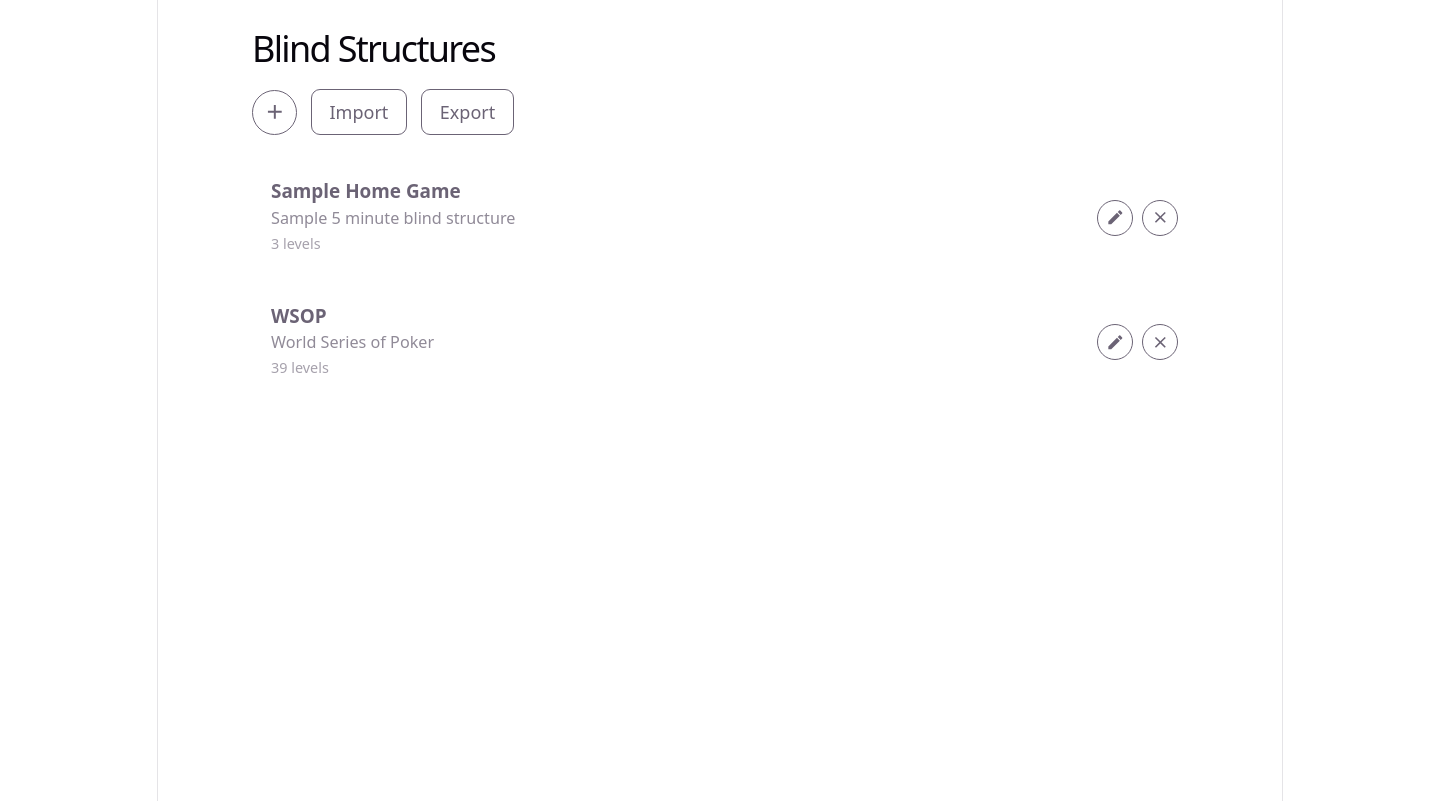
SettingsPage › creates a new blind structure with a level
Step 1. Click the button named "New Blind Structure" → (274, 112), box [252,90,297,135]
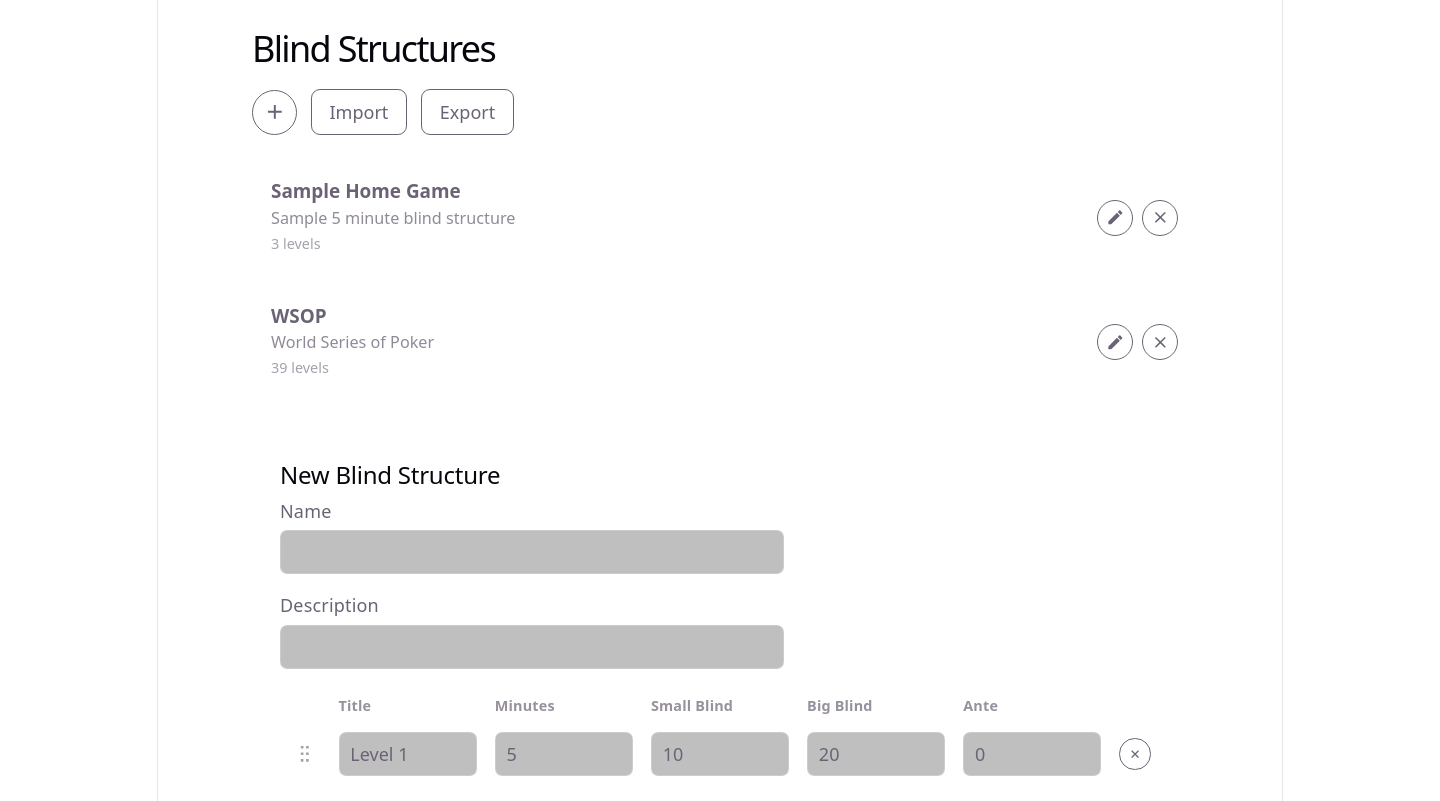
Step 2. Type "Turbo" into the field labelled "Name" → (532, 552), box [280,530,784,574]
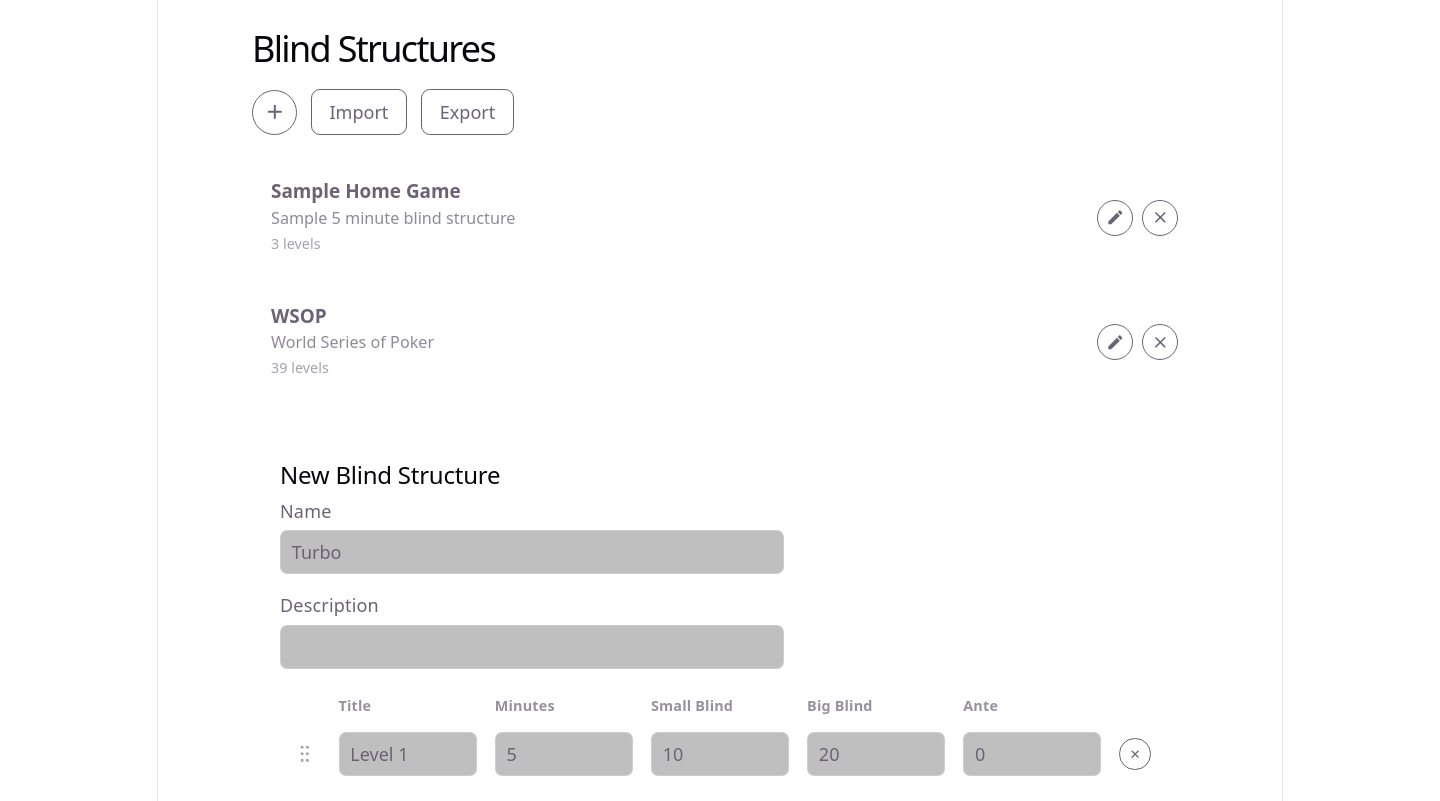
Step 3. Type "Fast blinds" into the field labelled "Description" → (532, 647), box [280,625,784,669]
(page scrolled)
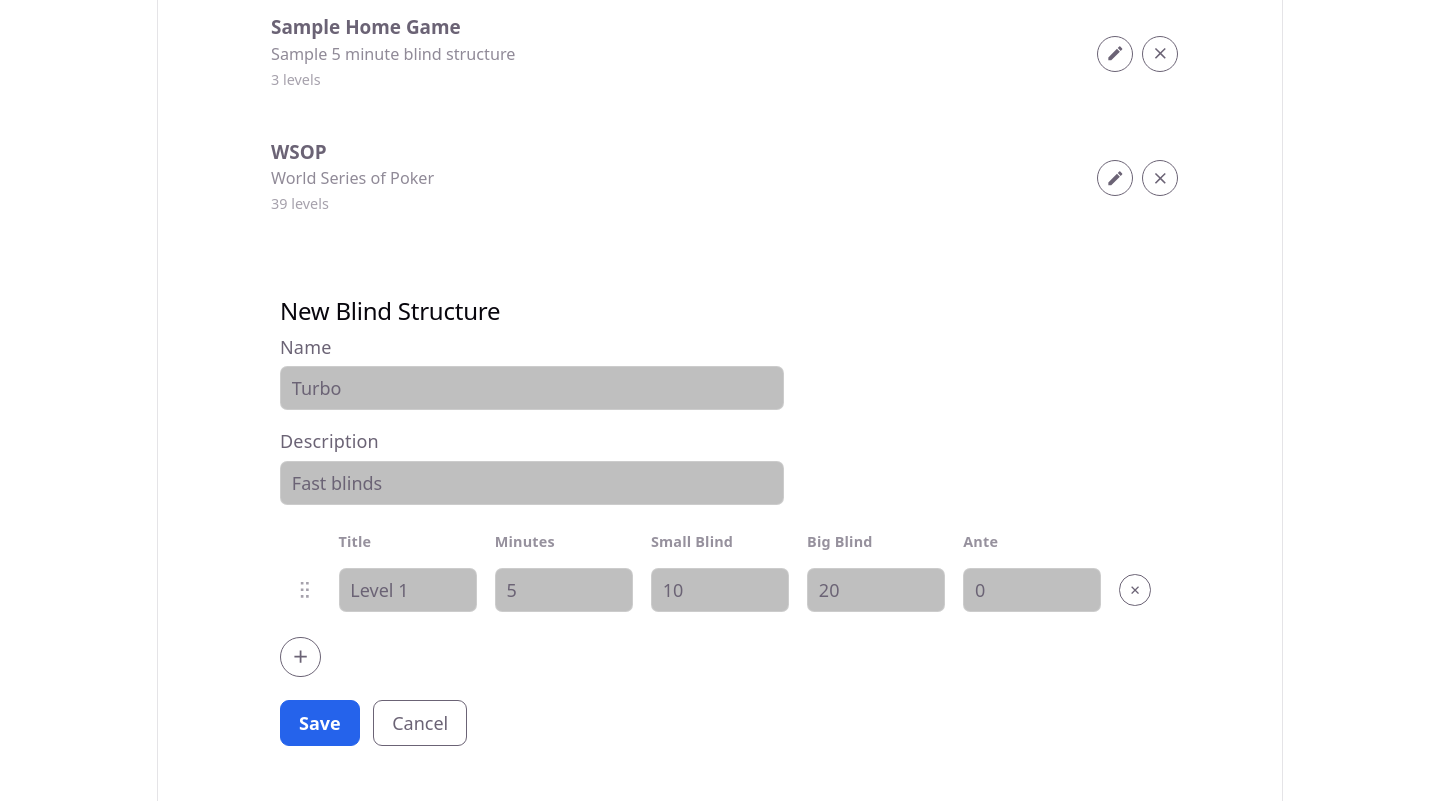
Step 4. Click the button "Save" → (320, 723), box [280,700,360,746]
(page scrolled)
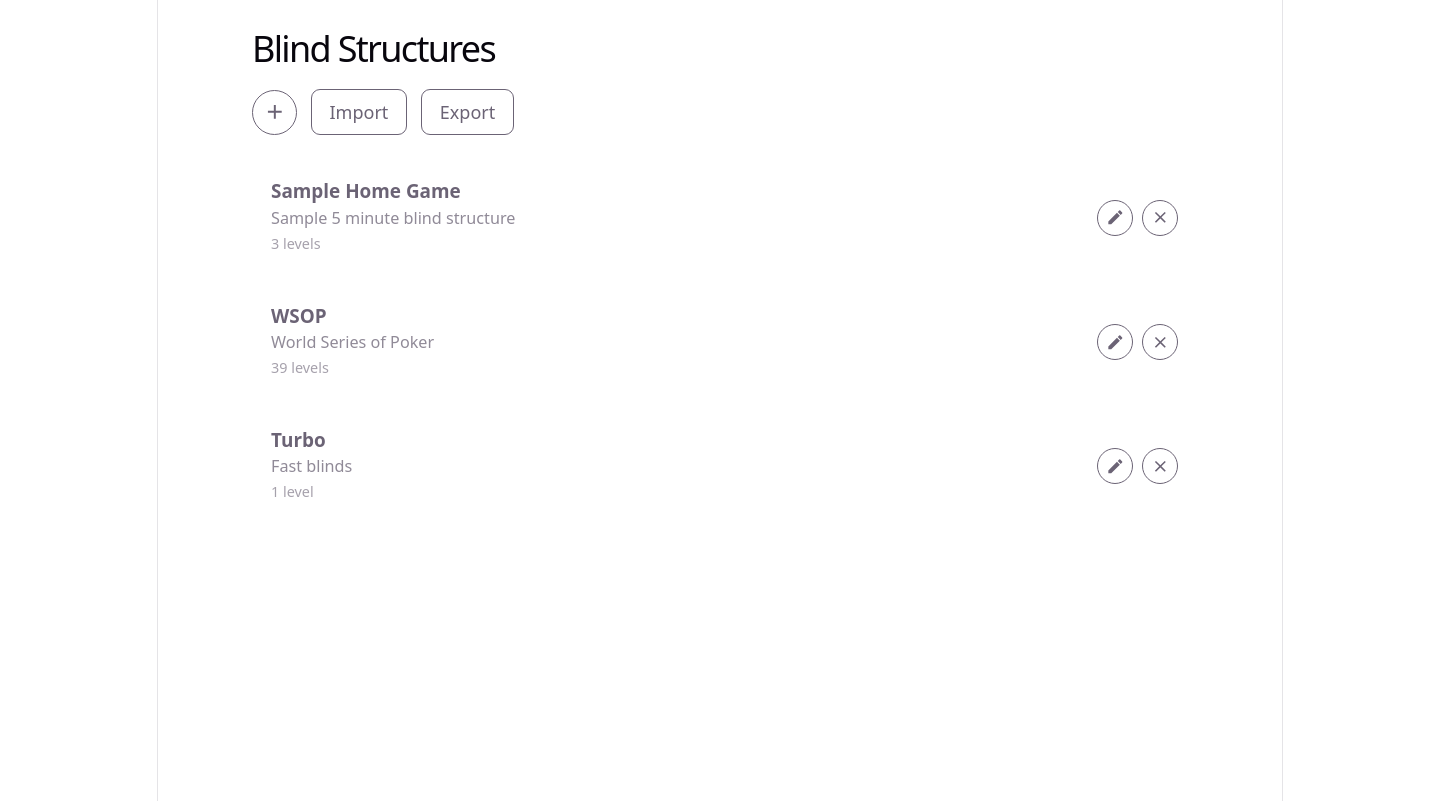
Now the text "Turbo" is shown, box [271,427,326,453]
